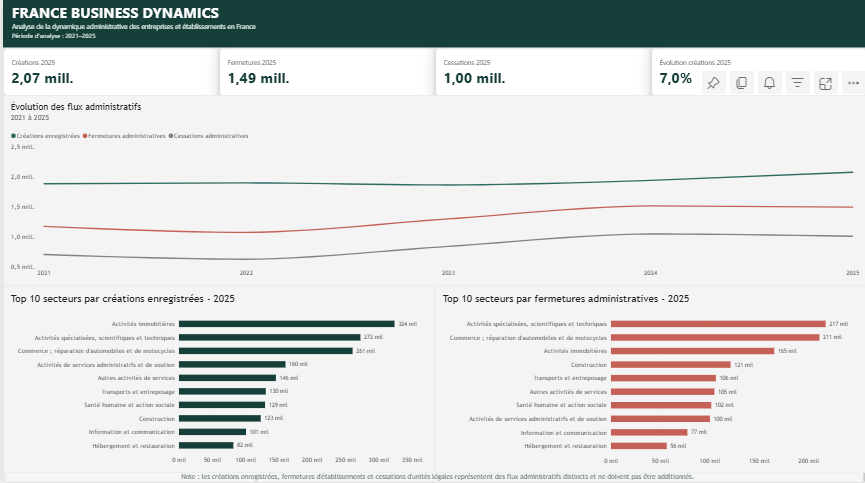

The dashboard page shown, as its layout file describes it:
{"tool":"powerbi","page":{"name":"Dynamique 2021–2025","canvas":[1920,1080],"ordinal":2},"visuals":[{"type":"shape","box":[0,0,1920,1080],"z":0},{"type":"shape","box":[0,0,1920,110],"z":1000},{"type":"textbox","box":[0,0,1920,110],"z":2000},{"type":"cardVisual","fields":{"Data":["_Measures.Créations 2025"]},"box":[0,110,480,107],"z":3000},{"type":"cardVisual","fields":{"Data":["_Measures.Fermetures 2025"]},"box":[480,110,480,107],"z":4000},{"type":"cardVisual","fields":{"Data":["_Measures.Cessations 2025"]},"box":[960,110,480,107],"z":5000},{"type":"cardVisual","fields":{"Data":["_Measures.Évolution créations 2025"]},"box":[1440,110,480,107],"z":6000},{"type":"lineChart","title":"Évolution des flux administratifs","fields":{"Category":["FactAdministrativeEvents.EventYear"],"Y":["_Measures.Créations enregistrées","_Measures.Fermetures administratives","_Measures.Cessations administratives"]},"box":[0,216.1,1920,423.1],"z":7000},{"type":"clusteredBarChart","title":"Top 10 secteurs par créations enregistrées - 2025","fields":{"Category":["DimActivity.NafSectionLabel"],"Y":["_Measures.Créations 2025"]},"box":[0,640,960,415],"z":8000},{"type":"clusteredBarChart","title":"Top 10 secteurs par fermetures administratives - 2025","fields":{"Category":["DimActivity.NafSectionLabel"],"Y":["_Measures.Fermetures 2025"]},"box":[960.5,639.5,958.1,416.3],"z":9000},{"type":"textbox","box":[20,1055,1900,25],"z":10000}]}

Visuals, with their boxes in screenshot pixels (x1, y1, x2, y2), scaled from the page's 1920x1080 canvas onto the 865x483 screenshot:
shape: <bbox>0, 0, 864, 482</bbox>
shape: <bbox>0, 0, 864, 49</bbox>
textbox: <bbox>0, 0, 864, 49</bbox>
cardVisual - _Measures.Créations 2025: <bbox>0, 49, 216, 97</bbox>
cardVisual - _Measures.Fermetures 2025: <bbox>216, 49, 432, 97</bbox>
cardVisual - _Measures.Cessations 2025: <bbox>432, 49, 649, 97</bbox>
cardVisual - _Measures.Évolution créations 2025: <bbox>649, 49, 864, 97</bbox>
"Évolution des flux administratifs" lineChart: <bbox>0, 97, 864, 286</bbox>
"Top 10 secteurs par créations enregistrées - 2025" clusteredBarChart: <bbox>0, 286, 432, 472</bbox>
"Top 10 secteurs par fermetures administratives - 2025" clusteredBarChart: <bbox>433, 286, 864, 472</bbox>
textbox: <bbox>9, 472, 864, 482</bbox>
